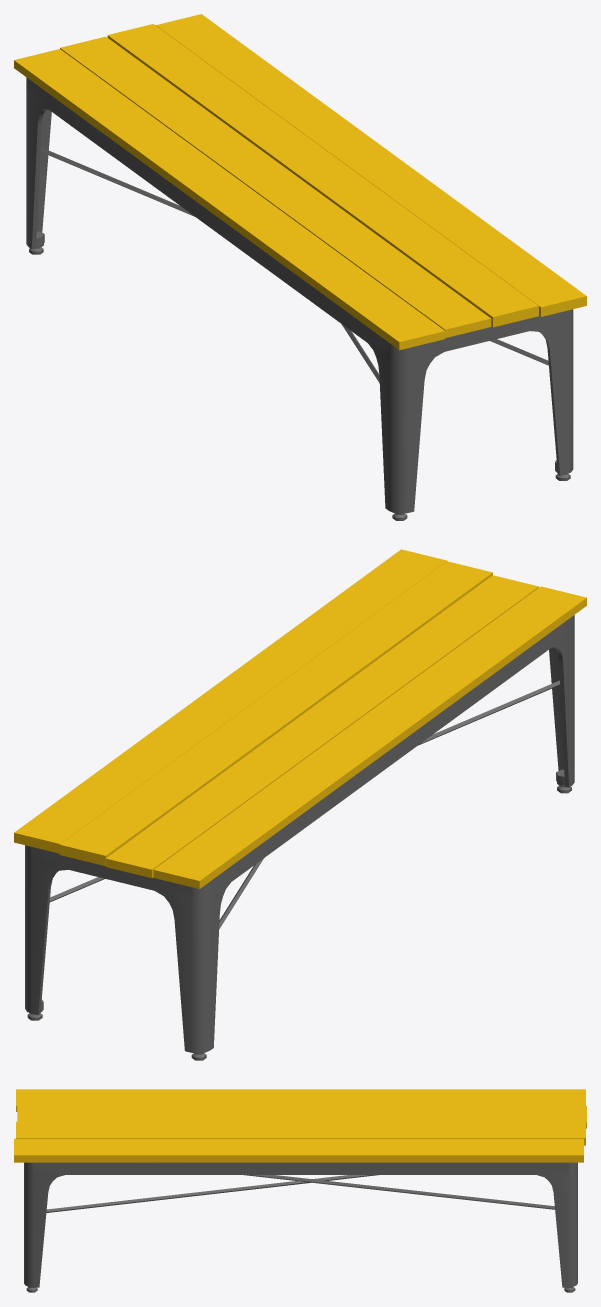
Rendered from banca-obj.obj.
3 views of the same model, one above another, from view 1: azimuth 30°, elevation 25°; view 2: azimuth 150°, elevation 25°; view 3: azimuth 270°, elevation 25° (orthographic). The views are drawn at different scales.
Parts seen in each view (by area): view 1: eb_hipster_bench_01_geometry_eb_hipster_bench_01.001, eb_hipster_bench_01_geometry_eb_hipster_bench_01; view 2: eb_hipster_bench_01_geometry_eb_hipster_bench_01.001, eb_hipster_bench_01_geometry_eb_hipster_bench_01; view 3: eb_hipster_bench_01_geometry_eb_hipster_bench_01.001, eb_hipster_bench_01_geometry_eb_hipster_bench_01.
Boxes of the visible parts, x1=… form: eb_hipster_bench_01_geometry_eb_hipster_bench_01.001: x1=14, y1=14, x2=586, y2=350; eb_hipster_bench_01_geometry_eb_hipster_bench_01: x1=26, y1=77, x2=573, y2=520; eb_hipster_bench_01_geometry_eb_hipster_bench_01.001: x1=14, y1=549, x2=586, y2=888; eb_hipster_bench_01_geometry_eb_hipster_bench_01: x1=25, y1=615, x2=574, y2=1060; eb_hipster_bench_01_geometry_eb_hipster_bench_01.001: x1=14, y1=1089, x2=586, y2=1162; eb_hipster_bench_01_geometry_eb_hipster_bench_01: x1=24, y1=1162, x2=577, y2=1292.
Bounding box in the file's own units: 1.72 × 1.67 × 6.21.
